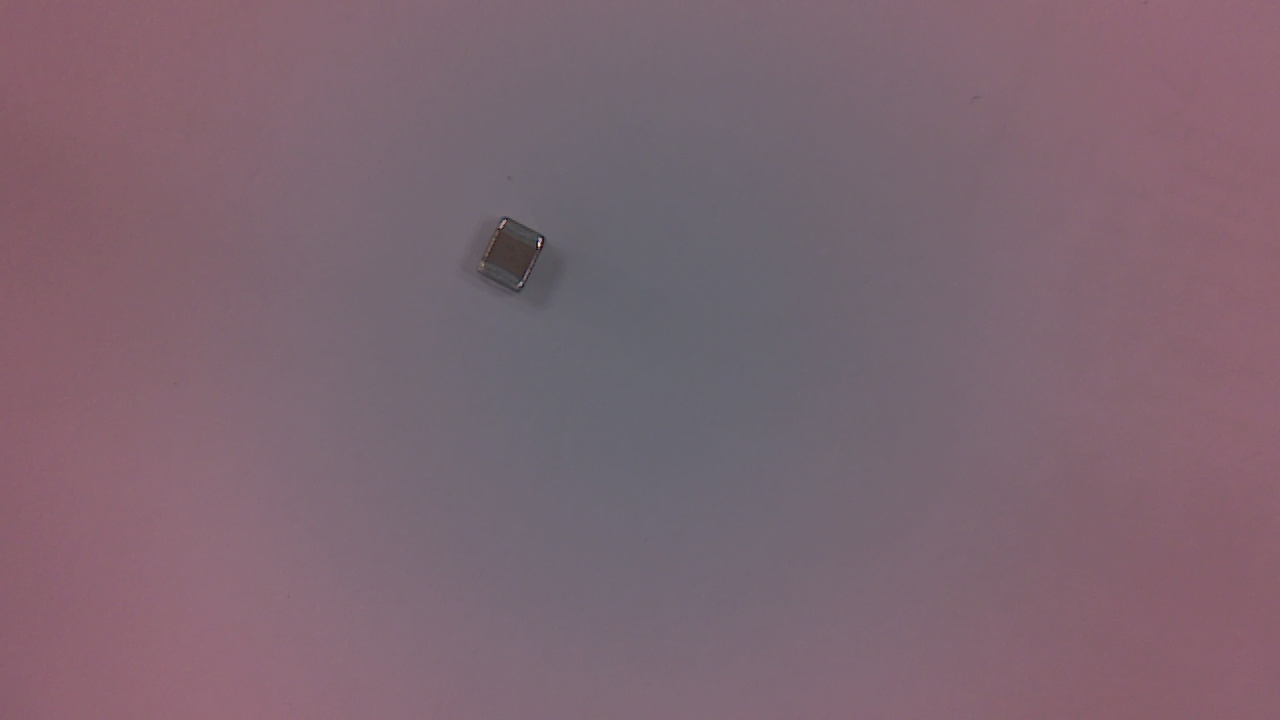Condensator: (478, 221, 552, 305)
